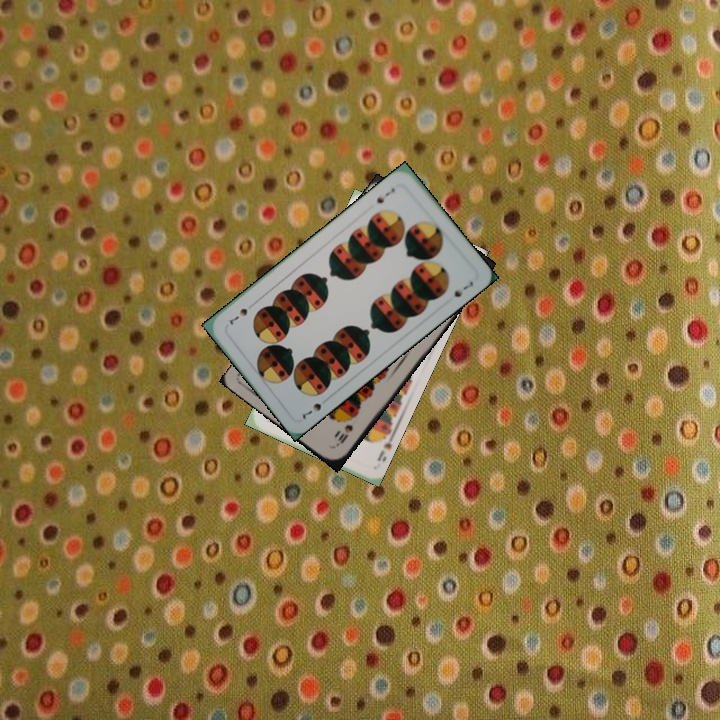S10: (332, 420, 356, 449)
S7: (297, 399, 324, 422), (372, 183, 398, 206)
S9: (373, 428, 393, 464)
